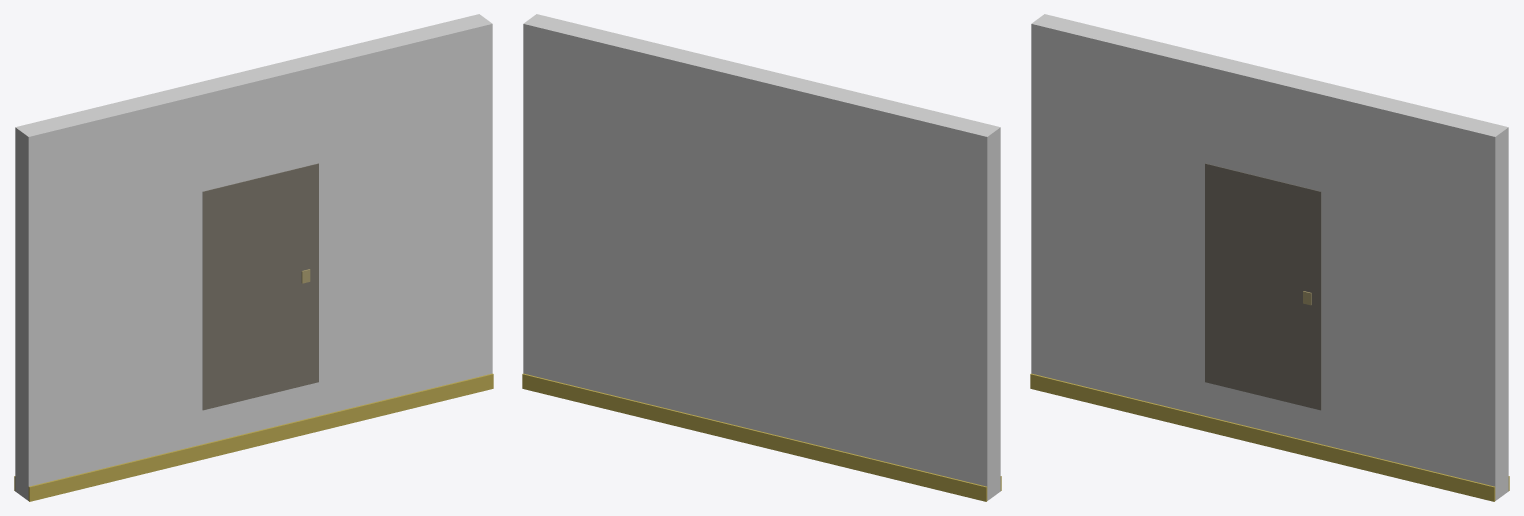
The model's file is MOD_26_UtilityWallPanel.glb.
The picture shows the model from 3 angles, left to right: view 1: azimuth 30°, elevation 25°; view 2: azimuth 150°, elevation 25°; view 3: azimuth 330°, elevation 25°; orthographic projection.
Parts seen in each view (by area): view 1: MOD_26_UtilityWallPanel; view 2: MOD_26_UtilityWallPanel; view 3: MOD_26_UtilityWallPanel.
Part boxes in pixels (box(x1,y1,x2,y2)): MOD_26_UtilityWallPanel: box(14, 14, 493, 501); MOD_26_UtilityWallPanel: box(522, 14, 1001, 501); MOD_26_UtilityWallPanel: box(1030, 14, 1509, 501).
Bounding box in the file's own units: 4 × 3 × 0.23.
